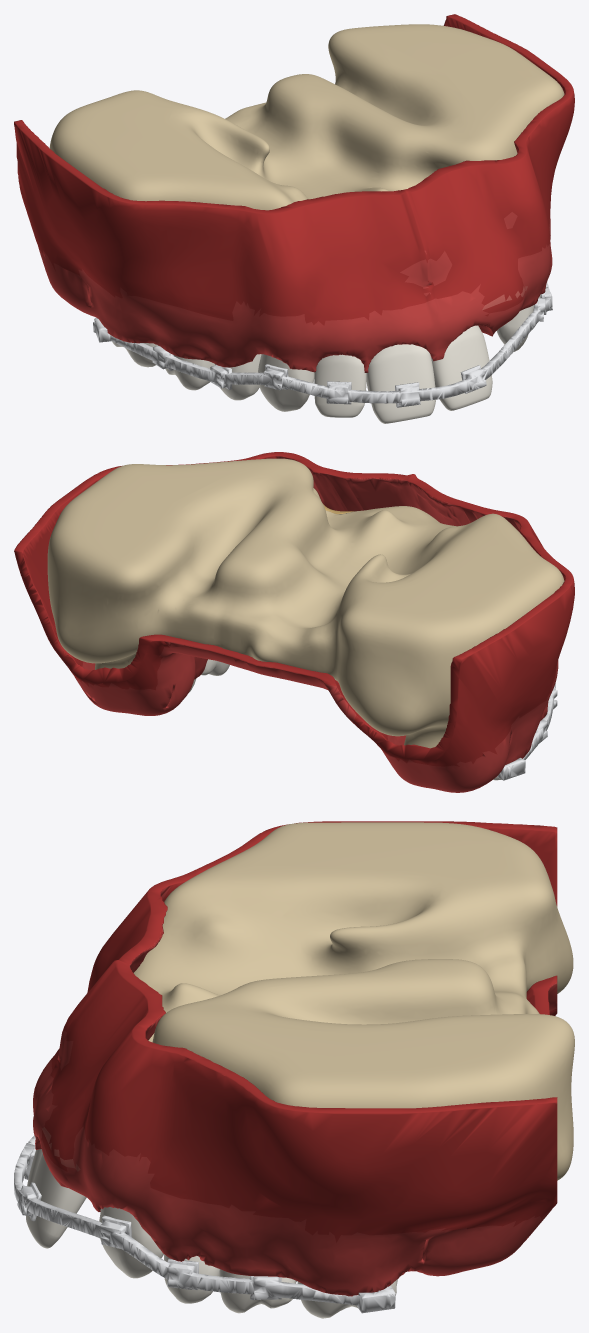
File: abg-2-short-term.glb
The picture shows the model from 3 angles, top to bottom: view 1: azimuth 30°, elevation 25°; view 2: azimuth 150°, elevation 25°; view 3: azimuth 270°, elevation 25°; orthographic projection. The views are drawn at different scales.
Visible parts, largest first — view 1: soft-tissue, bone, teeth, braces; view 2: bone, soft-tissue, braces; view 3: bone, soft-tissue, braces, teeth.
Boxes of the visible parts, x1,y1,x2,y2 form: soft-tissue: [14, 14, 574, 372]; bone: [49, 24, 564, 210]; teeth: [112, 294, 540, 423]; braces: [93, 282, 552, 407]; bone: [47, 458, 564, 748]; soft-tissue: [14, 452, 574, 792]; braces: [497, 683, 557, 780]; bone: [133, 822, 574, 1180]; soft-tissue: [33, 821, 557, 1296]; braces: [14, 1135, 395, 1313]; teeth: [26, 1149, 397, 1318].
Bounding box in the file's own units: 0.1011 × 0.0433 × 0.082.
